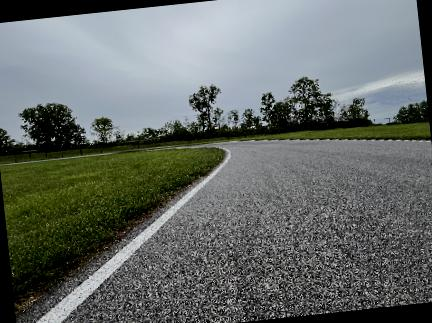Grass: (0, 148, 225, 301), (224, 123, 430, 141)
Lane: (64, 140, 431, 322)
